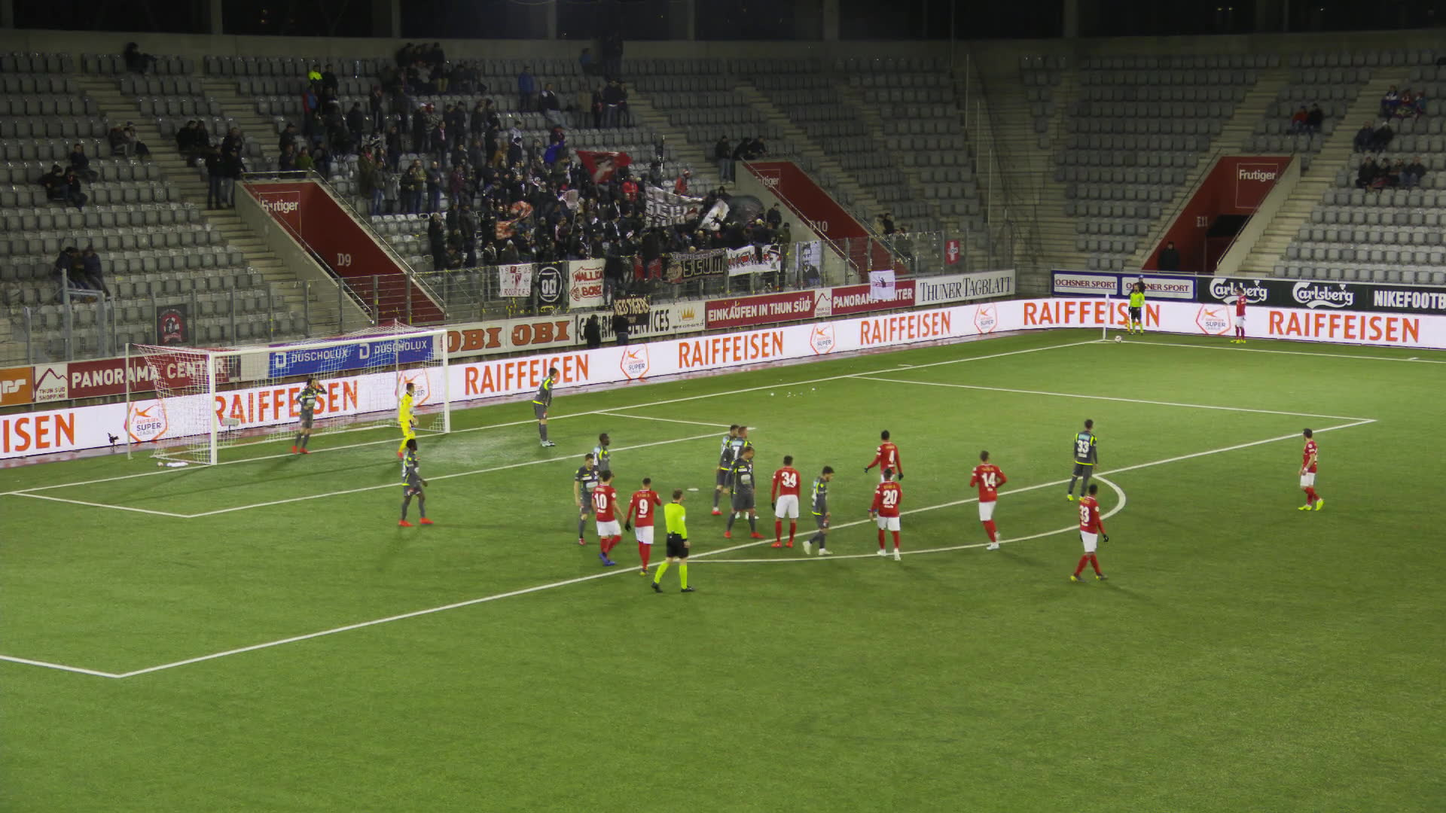ball: (1115, 335, 1121, 341)
player: (721, 445, 762, 539), (1072, 482, 1109, 583), (971, 451, 1008, 549), (624, 477, 660, 573), (592, 470, 625, 567), (870, 467, 903, 561), (802, 465, 836, 556), (769, 455, 801, 547), (397, 437, 429, 526), (574, 453, 604, 545), (293, 376, 327, 454), (1066, 417, 1097, 501), (712, 421, 740, 514), (1295, 428, 1325, 511), (865, 428, 901, 492), (732, 425, 755, 519), (531, 365, 557, 446), (397, 382, 422, 461), (590, 432, 613, 474), (1231, 287, 1246, 343)
referee: (655, 489, 699, 592), (1128, 283, 1146, 334)
